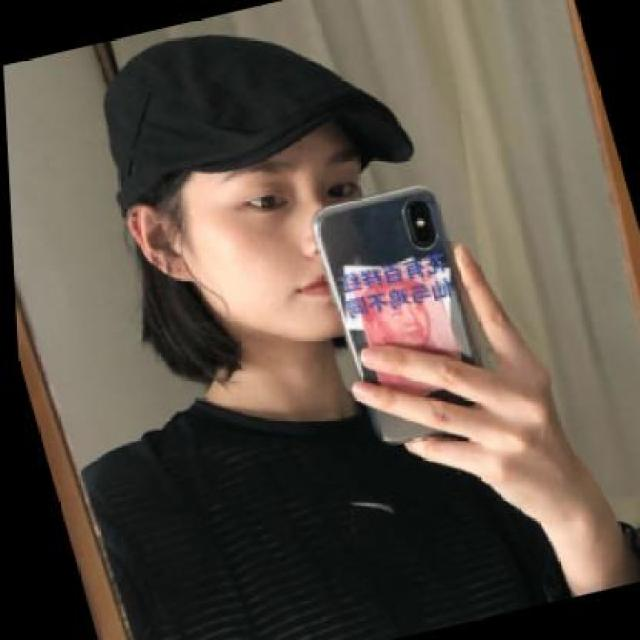hat: (74, 0, 418, 223)
